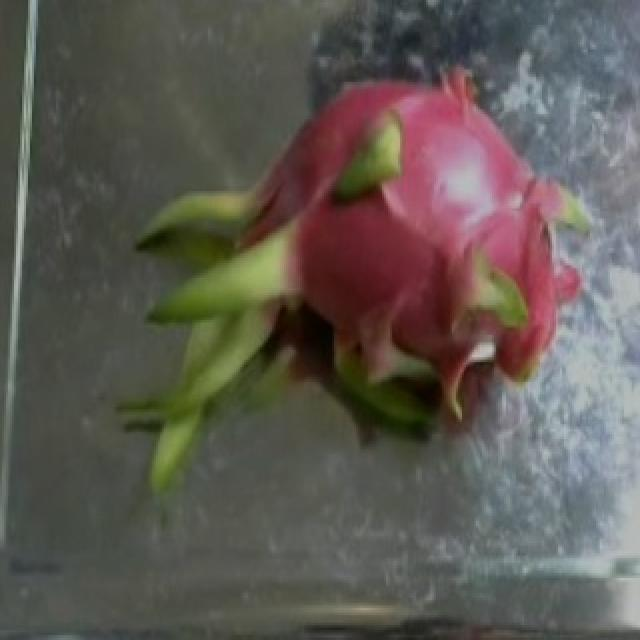fruit: (226, 22, 630, 474), (100, 37, 430, 504)
